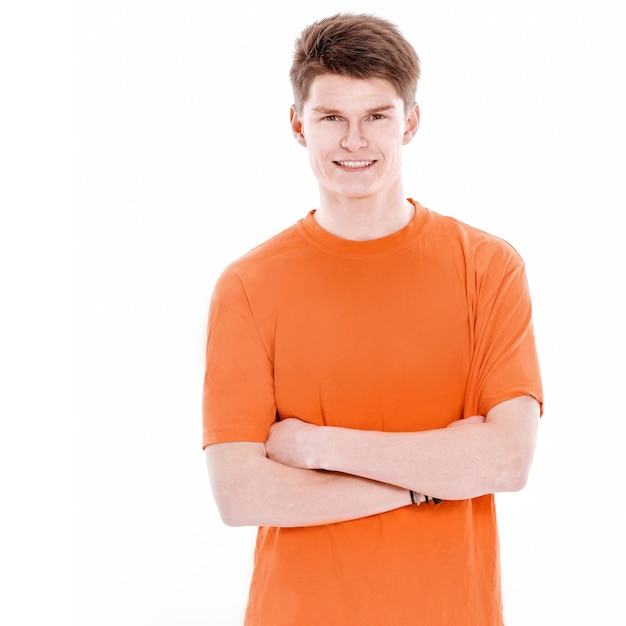teen: (271, 25, 430, 221)
